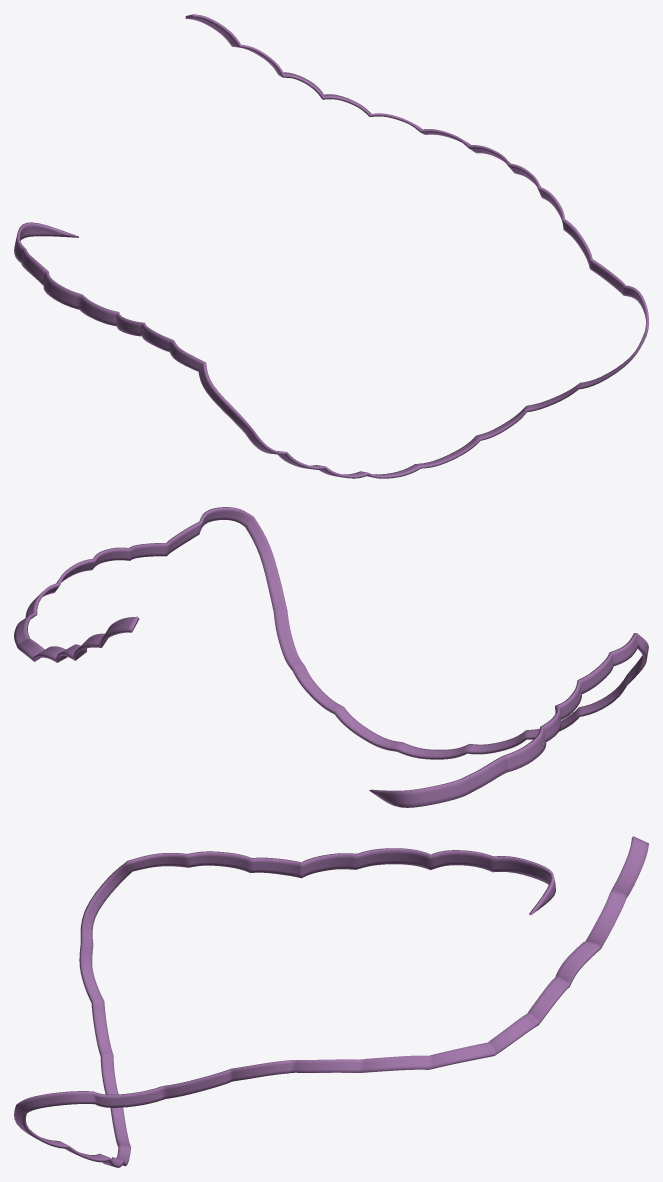
3 renders of one model, top to bottom at view 1: azimuth 30°, elevation 25°; view 2: azimuth 150°, elevation 25°; view 3: azimuth 270°, elevation 25°, orthographic. The views are drawn at different scales.
Visible parts, largest first — view 1: 系膜带; view 2: 系膜带; view 3: 系膜带.
Part boxes in pixels (<box>): 系膜带: <box>14,14,648,478</box>; 系膜带: <box>14,507,648,807</box>; 系膜带: <box>14,836,648,1167</box>.
Bounding box in the file's own units: 0.3319 × 0.2022 × 0.3649.
